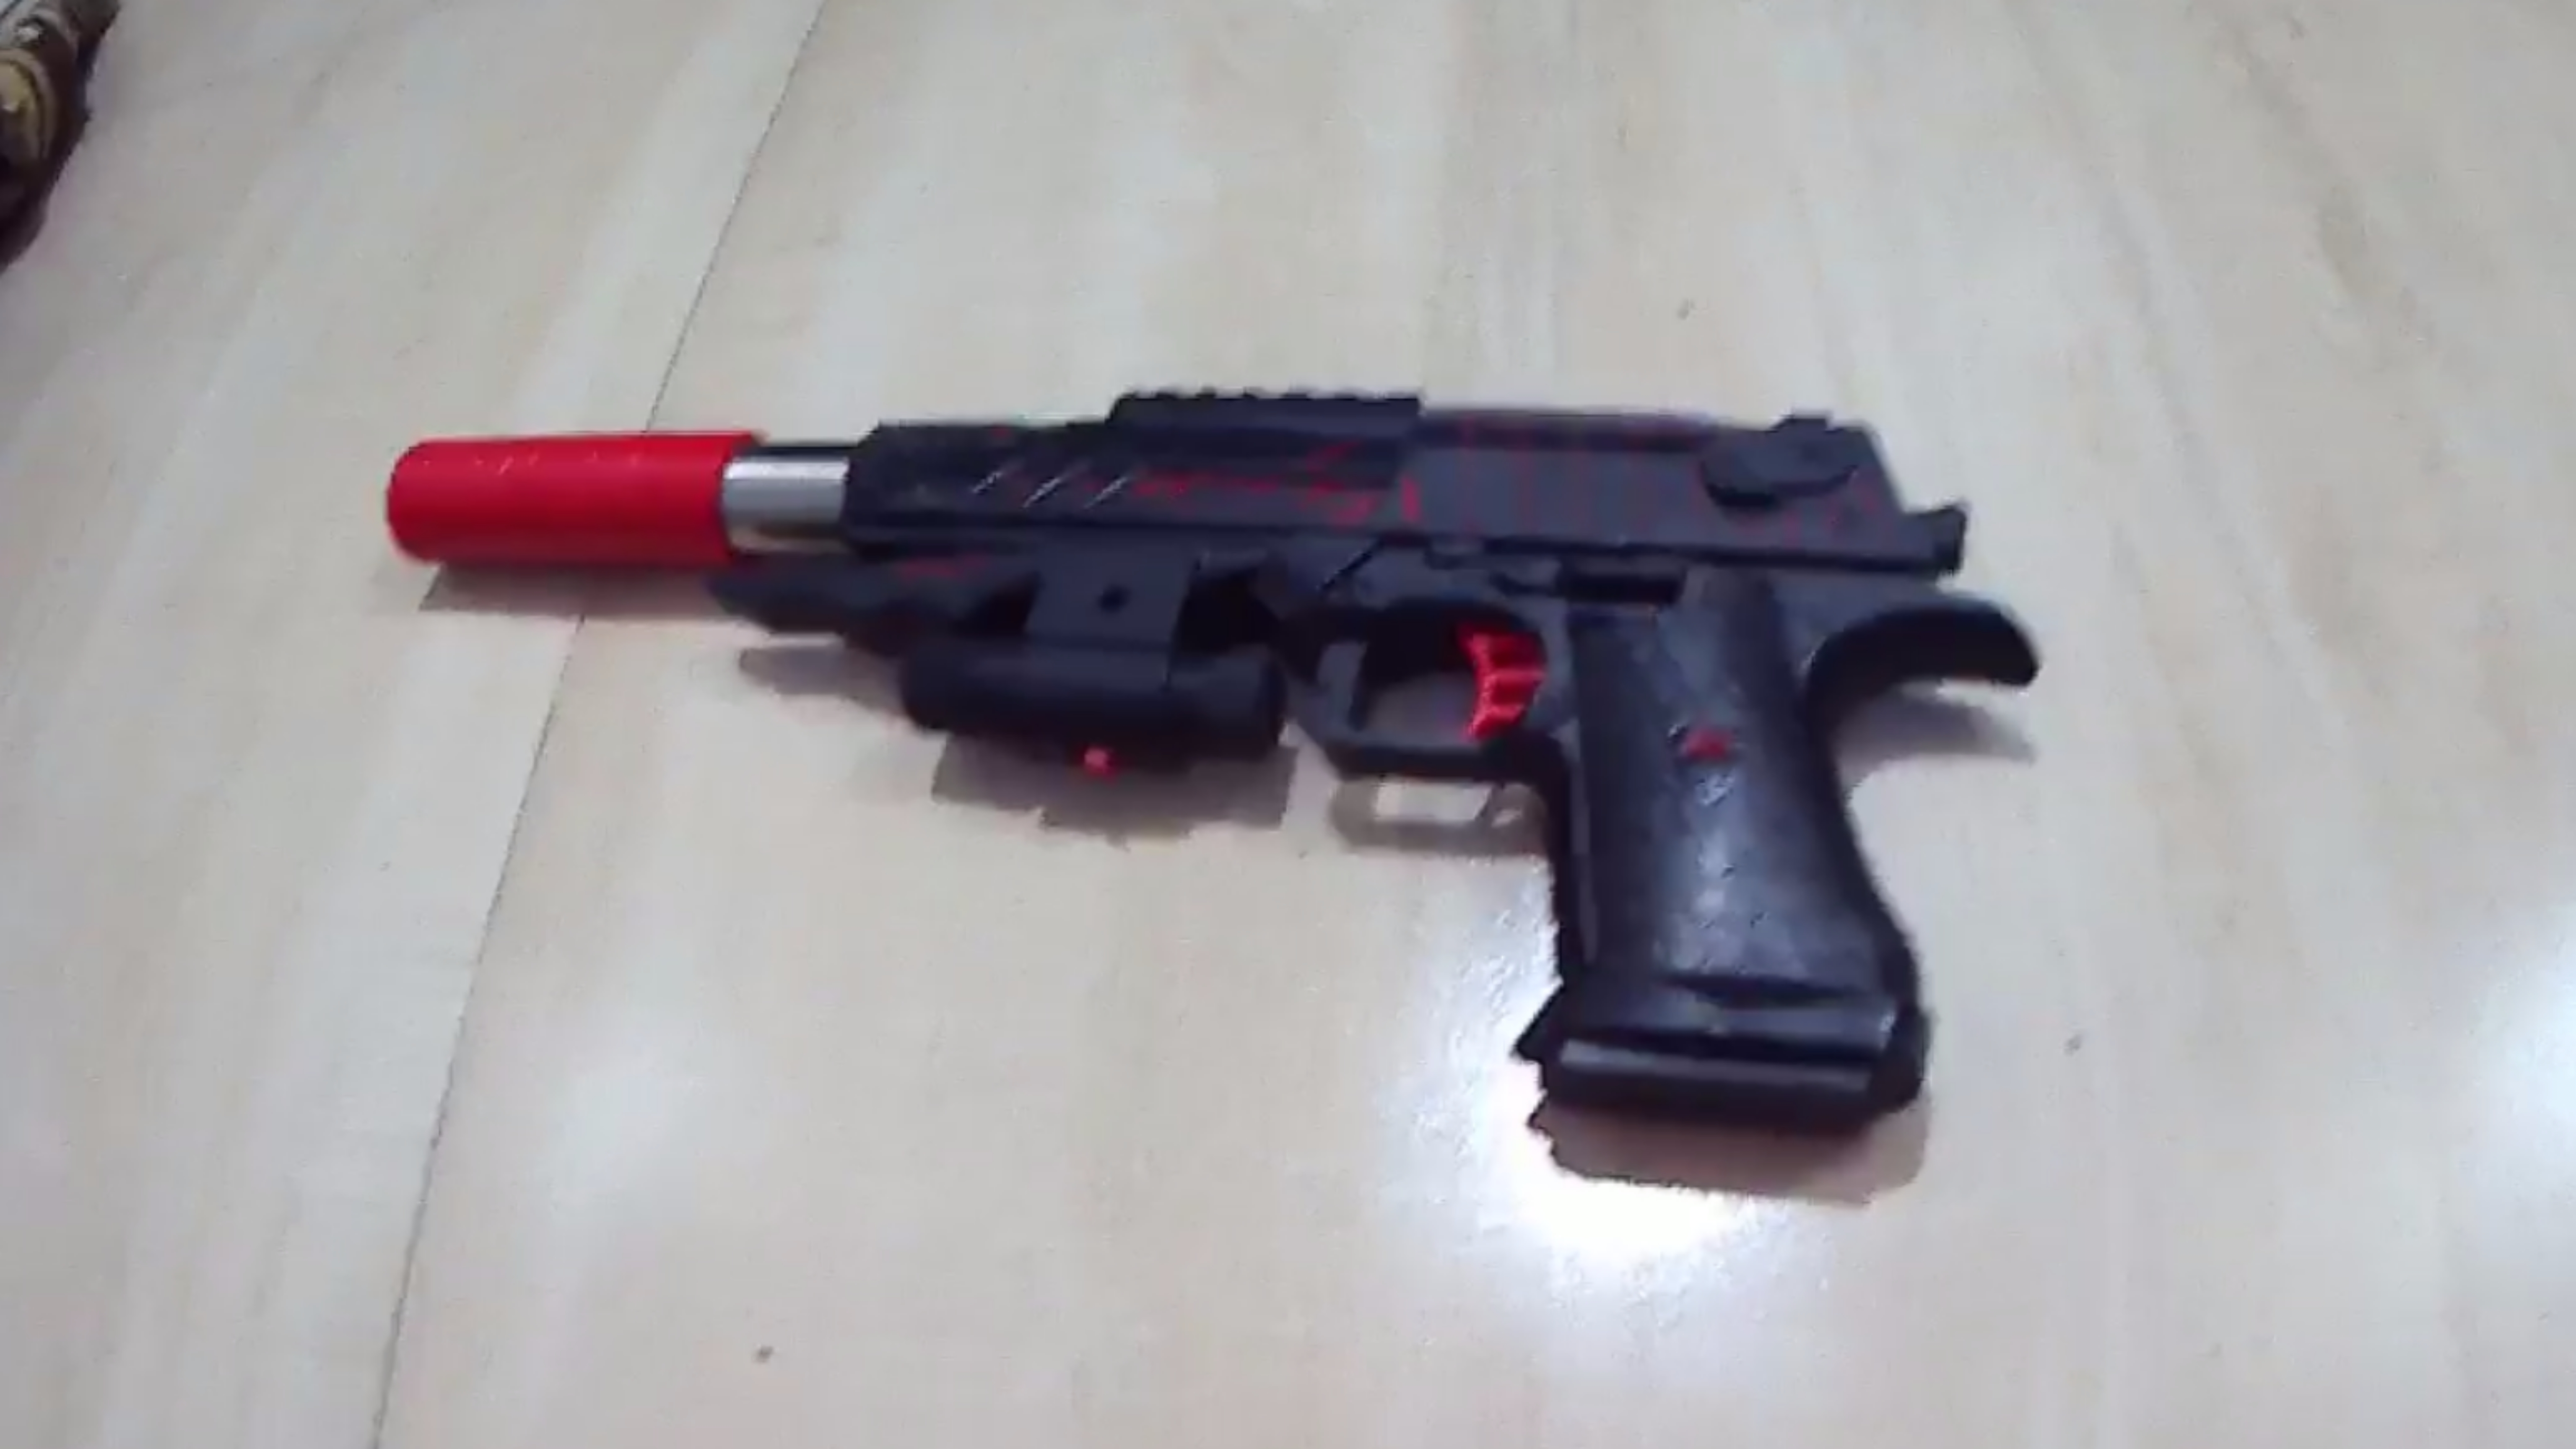handgun: (338, 333, 2017, 1184)
